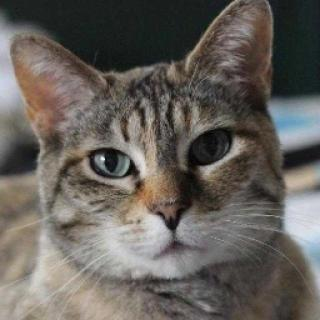cat: (2, 18, 290, 284)
nose: (141, 170, 196, 232)
